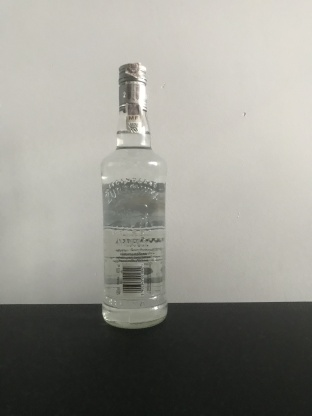nakretka: (116, 60, 149, 114)
